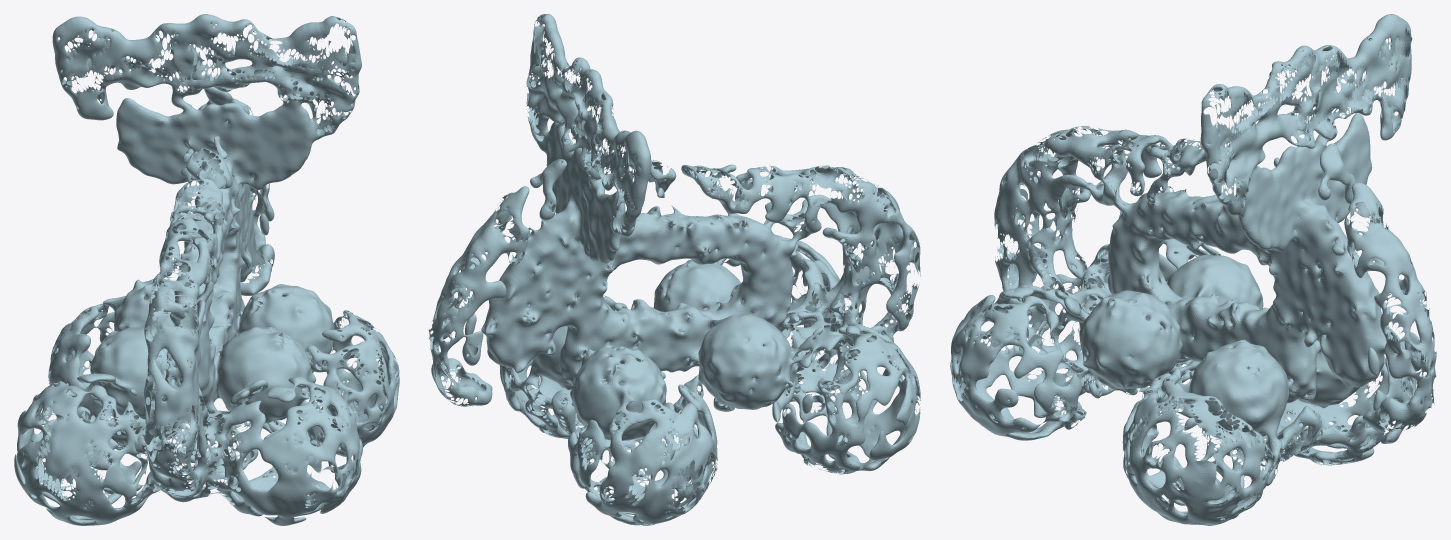
File: dudf_elk.glb
3 renders of one model, left to right at view 1: azimuth 30°, elevation 25°; view 2: azimuth 150°, elevation 25°; view 3: azimuth 270°, elevation 25°, orthographic. The views are drawn at different scales.
Visible parts, largest first — view 1: dudf_elk.ply; view 2: dudf_elk.ply; view 3: dudf_elk.ply.
Boxes of the visible parts, <box> form: dudf_elk.ply: <box>14,14,399,525</box>; dudf_elk.ply: <box>428,14,920,525</box>; dudf_elk.ply: <box>950,14,1436,525</box>.
Bounding box in the file's own units: 0.7688 × 0.8178 × 0.8003.
